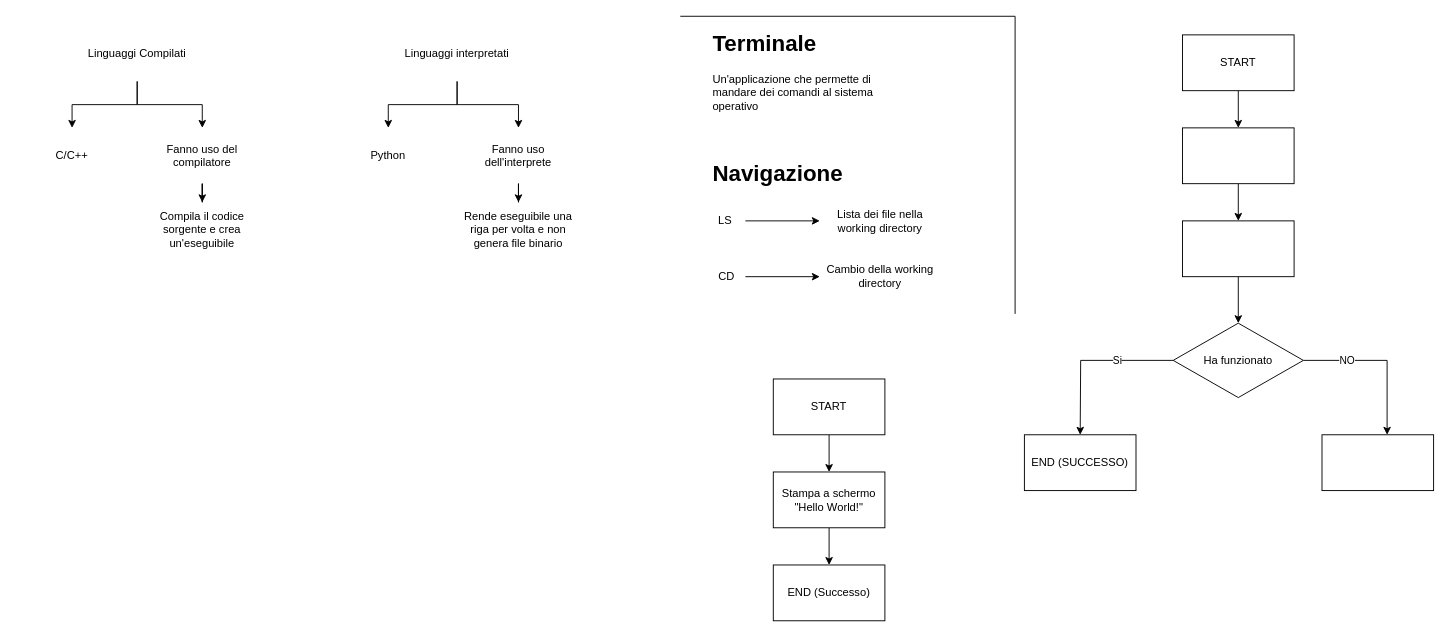
Some shapes in this 1450 by 637 pixel diagram are drawn without their labels. Here are the shapes that lost their labels. From the top down, the centre of each, then its label:
At point 1238,155: "Avvicinati alla porta".
At point 1238,248: "Spingi la porta".
At point 1377,462: "END (INSUCCESSO)".
